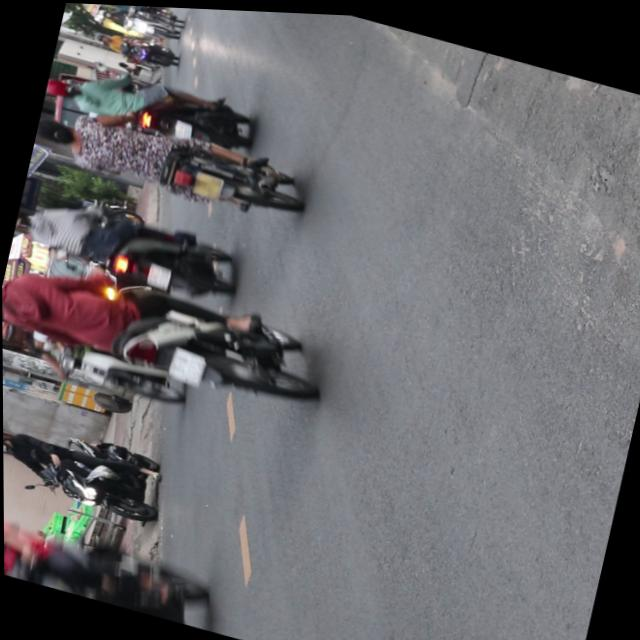helmet: (44, 75, 78, 101), (2, 318, 29, 347), (14, 209, 31, 232), (3, 431, 12, 455)
licenseplate: (1, 246, 328, 418), (30, 95, 309, 230), (3, 497, 236, 632), (9, 184, 244, 309), (42, 51, 258, 158), (2, 406, 171, 525)
motorcyclist: (35, 116, 75, 148)
nohelmet: (166, 345, 204, 384), (190, 168, 224, 199), (144, 261, 170, 287), (171, 117, 190, 137)
